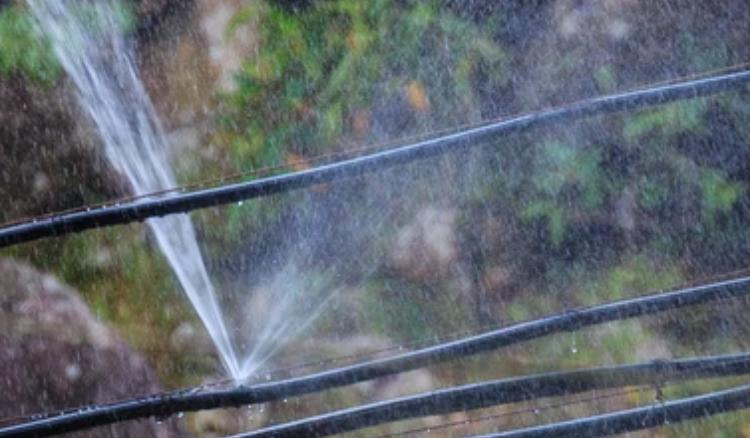pipe burst: (25, 0, 337, 384)
